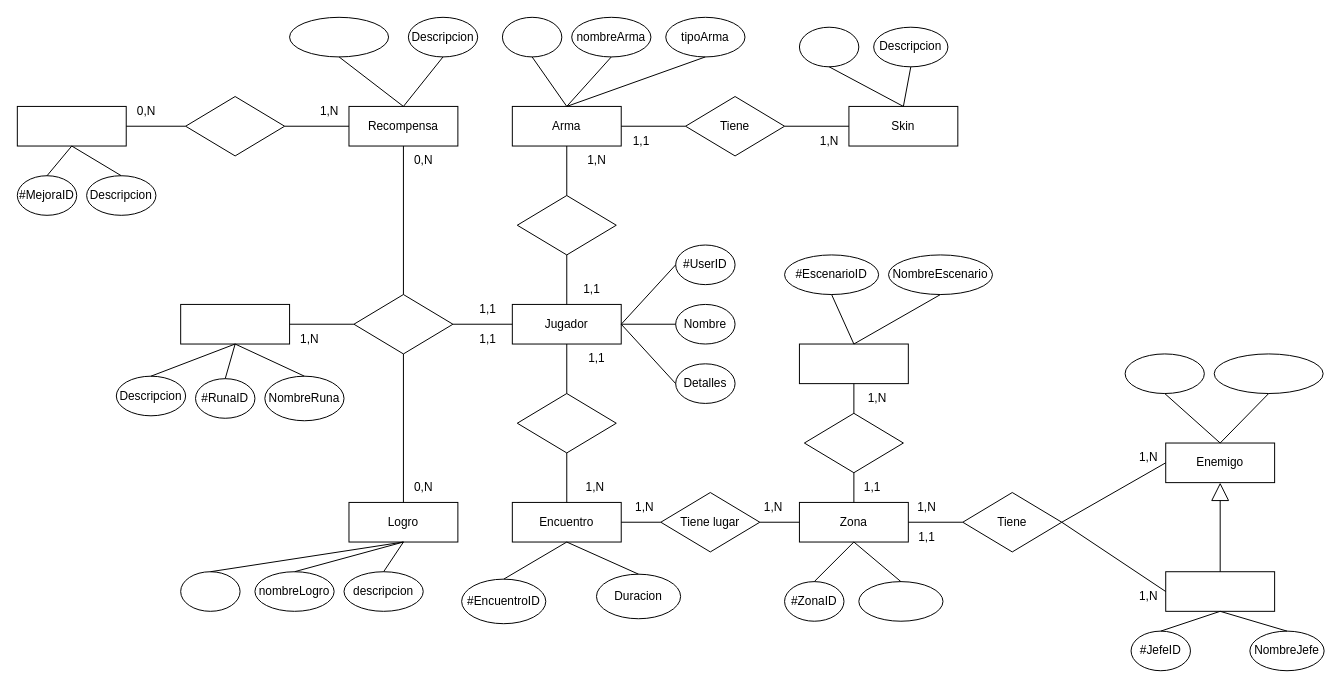
Image size: 1341x688. Some labels were removed from this diagram. Each missing label, with the box of its shape:
#ArmaID: (501, 16, 562, 57)
#EnemigoID: (1124, 353, 1204, 394)
#LogroID: (180, 571, 240, 611)
#RecompensaID: (289, 16, 389, 57)
#SkinID: (798, 26, 859, 67)
Es comprada por: (185, 96, 285, 156)
Escenario: (798, 343, 908, 384)
Jefe: (1165, 571, 1275, 611)
Mejora: (16, 105, 126, 146)
NombreEnemigo: (1213, 353, 1323, 394)
NombreZona: (858, 581, 943, 621)
Participa: (516, 393, 616, 453)
Pertenece: (803, 412, 903, 473)
Recibe: (353, 294, 453, 354)
Runa: (180, 303, 290, 344)
Usa: (516, 195, 616, 255)
